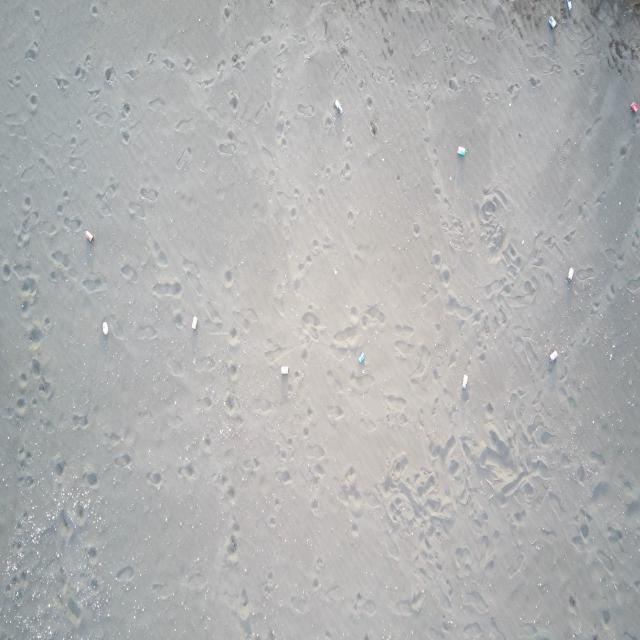Garbage: (333, 100, 342, 114), (456, 145, 466, 156), (101, 320, 108, 335), (84, 230, 92, 241), (631, 100, 639, 111), (357, 352, 364, 364), (548, 16, 555, 27), (548, 351, 556, 360), (462, 374, 467, 388), (567, 267, 572, 280), (280, 366, 287, 375), (566, 0, 571, 12), (192, 316, 196, 329)
